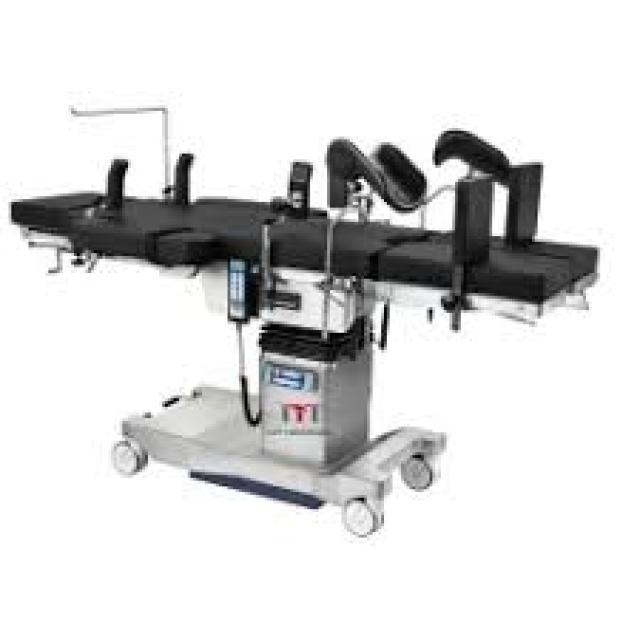bed: (8, 102, 600, 538)
